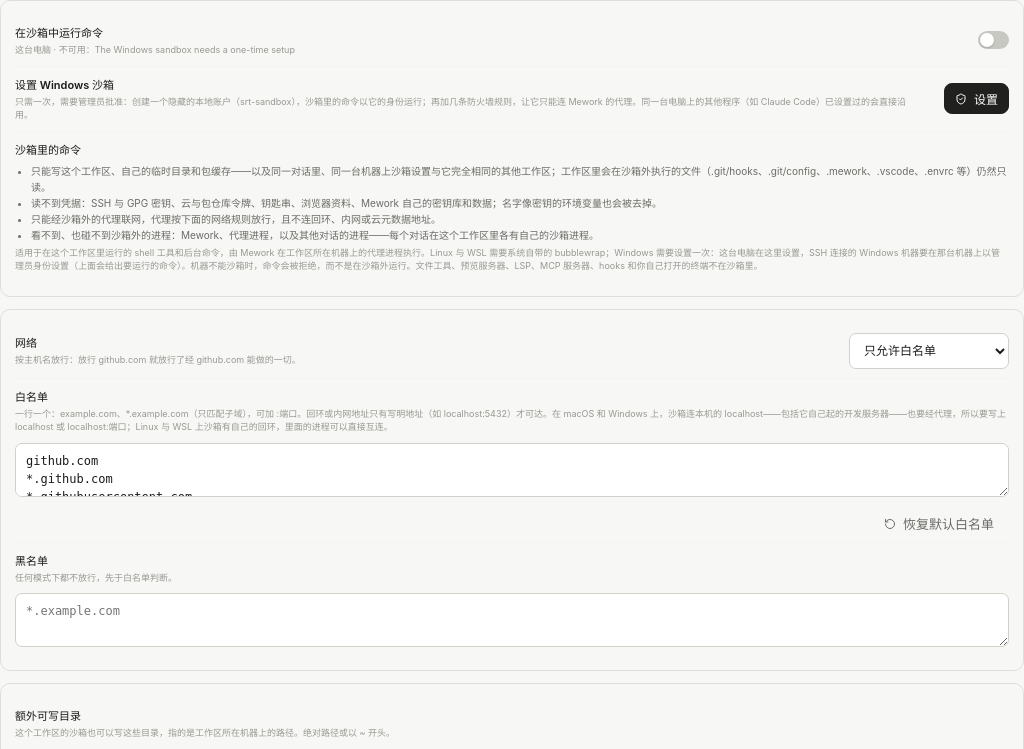
Test case: SandboxSettings › offers the one-time Windows setup and shows the sandbox available after it
This screenshot has width=1024, height=749.
Step 1. Click the button "设置" → (976, 98), box [944,83,1009,114]
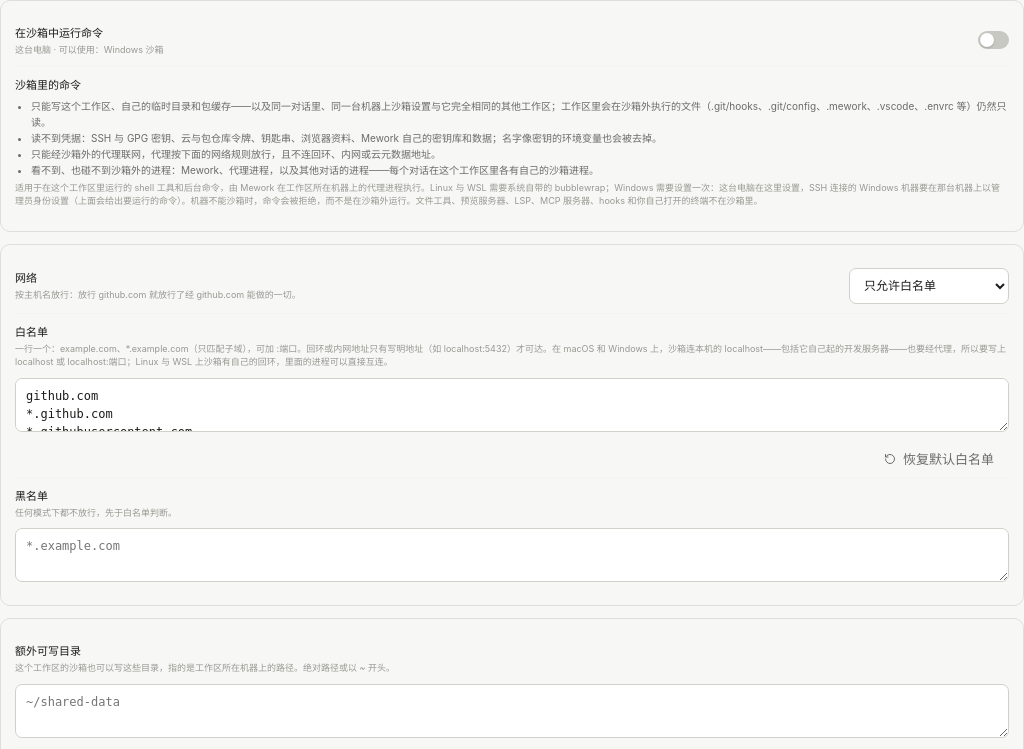
Check: the text "这台电脑 · 可以使用：Windows 沙箱" is shown, box [15,44,163,55]
